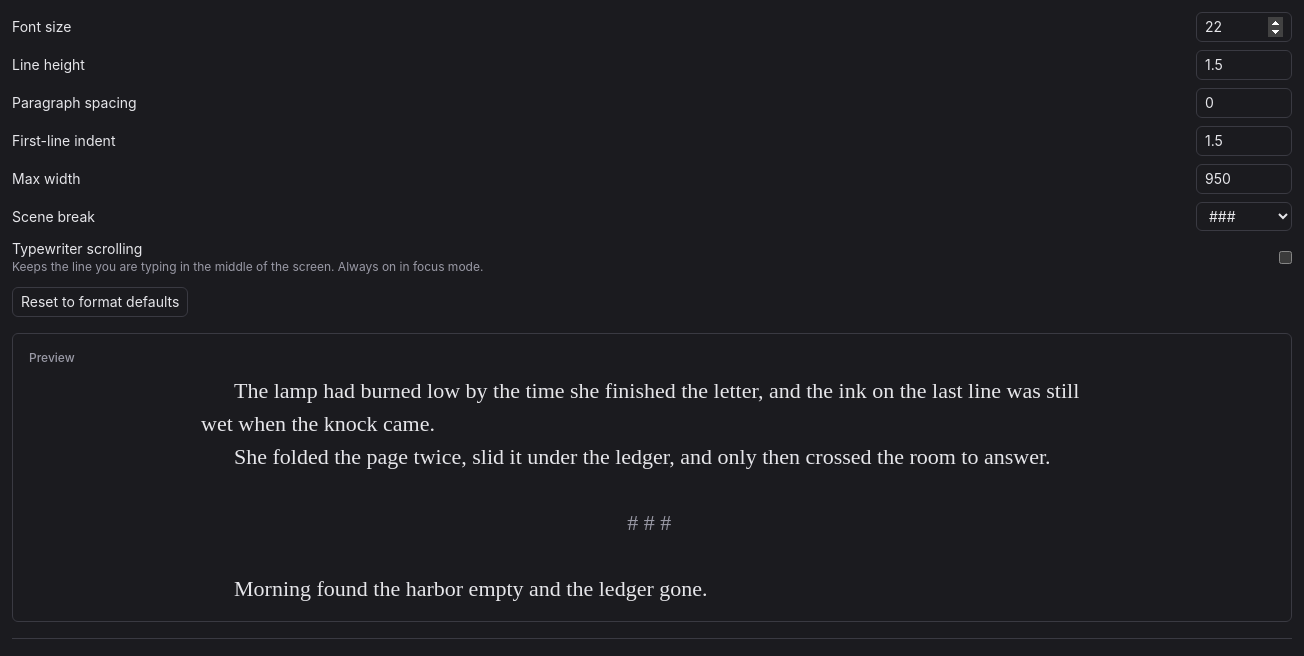
Test case: EditorSettingsTab (F-3.6, F-7.5) › resets every setting to the format defaults
The width and height of the screenshot is (1304, 656).
Click the button "Reset to format defaults".
click(100, 302)  # box [12, 287, 188, 317]
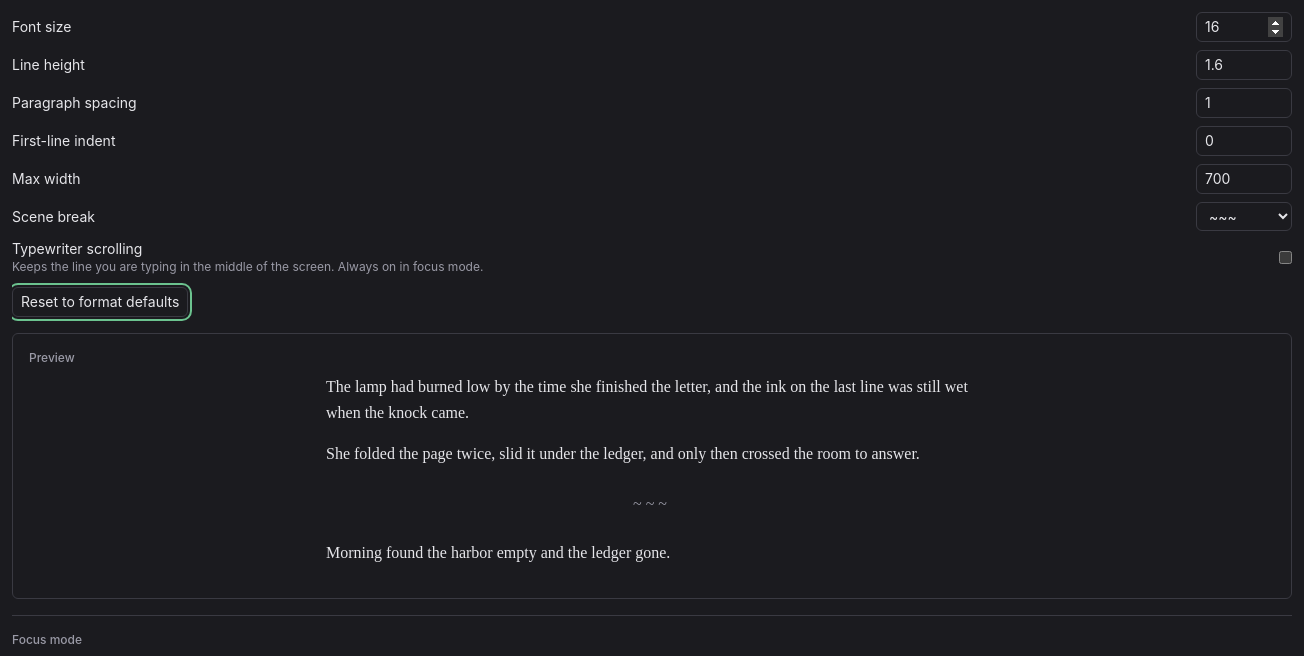
Now the number field labelled "Font size" holds "16", box [1196, 12, 1292, 42]
Now the number field labelled "Max width" holds "700", box [1196, 164, 1292, 194]
Now the dropdown labelled "Scene break" shows "~~~", box [1196, 202, 1292, 231]
